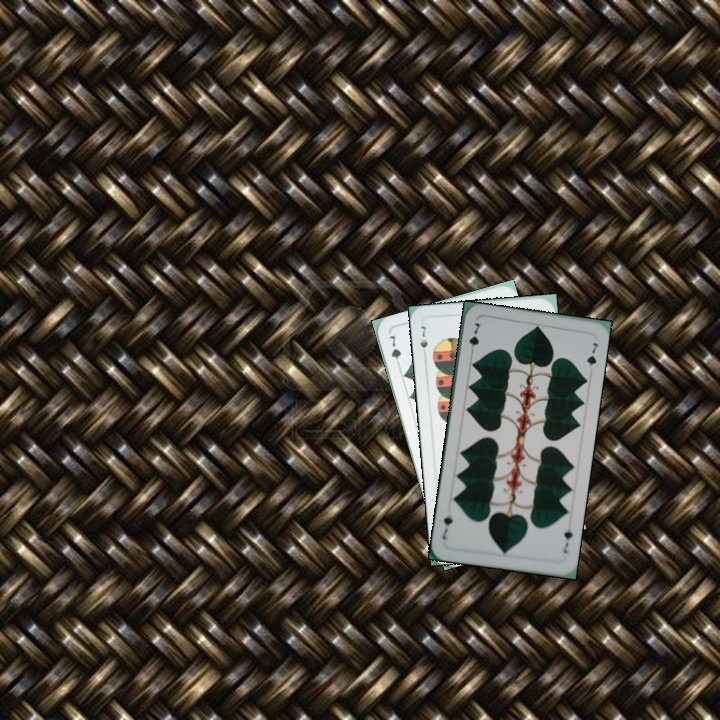G7: (385, 331, 404, 370), (465, 319, 482, 358), (559, 526, 575, 556)
S7: (416, 322, 430, 351)
